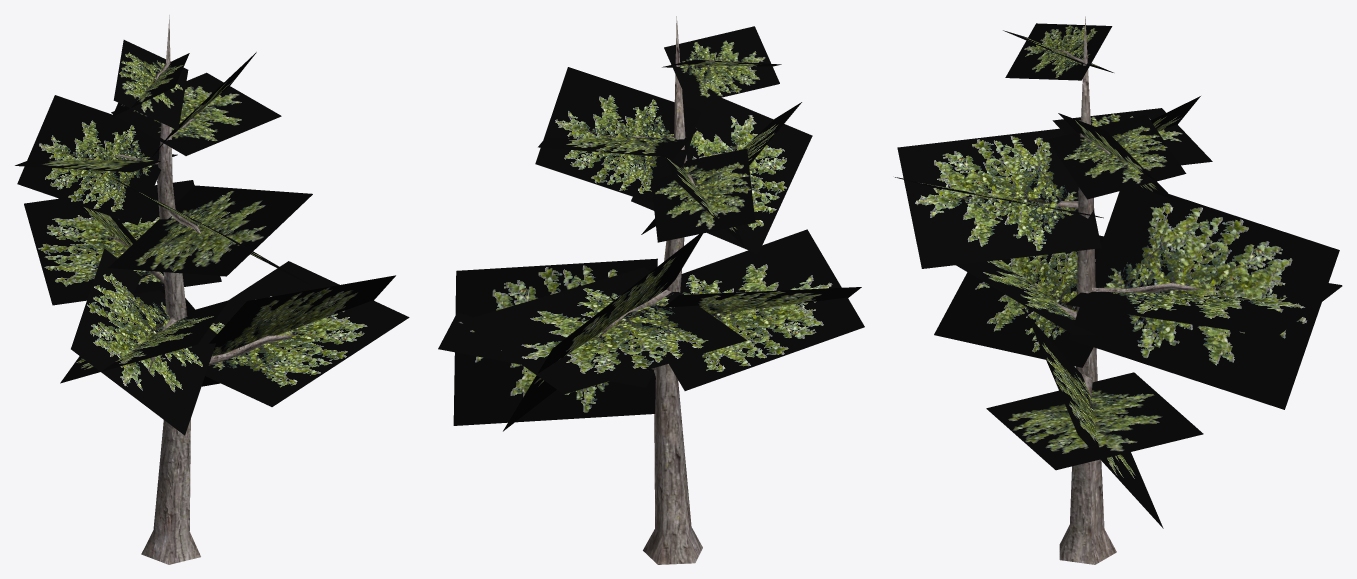
Rendered from tree2.glb.
3 views of the same model, side by side, from view 1: azimuth 30°, elevation 25°; view 2: azimuth 150°, elevation 25°; view 3: azimuth 270°, elevation 25° (orthographic).
Visible parts, largest first — view 1: Arbol; view 2: Arbol; view 3: Arbol.
Part boxes in pixels (x1=…): Arbol: x1=15, y1=15, x2=409, y2=564; Arbol: x1=438, y1=16, x2=864, y2=564; Arbol: x1=895, y1=16, x2=1342, y2=564.
Size of the model in its own units: 39.79 by 54.76 by 41.55.
Materials: 2 (2 with a texture image).
